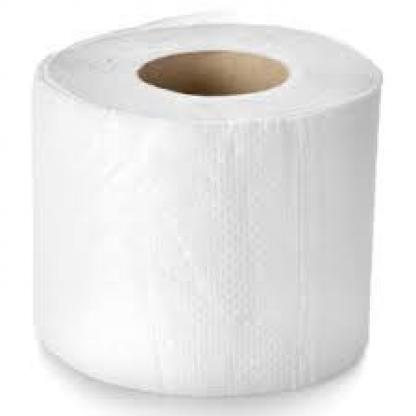tissue: (22, 16, 373, 402)
